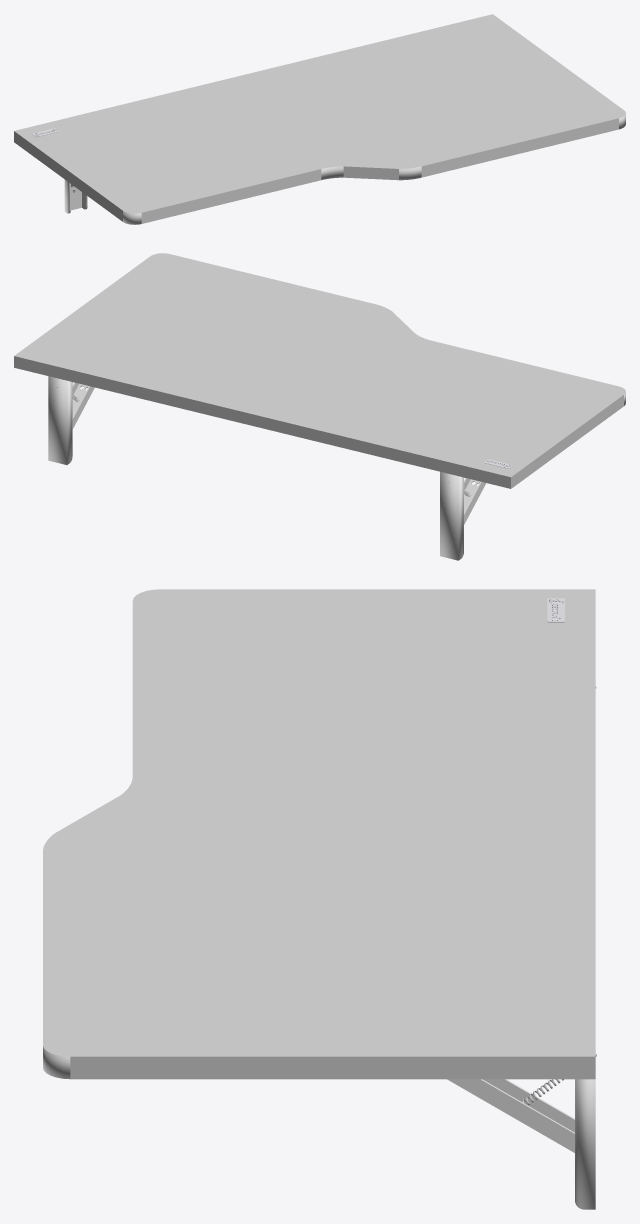
Rendered from steffy.glb.
3 renders of one model, top to bottom at view 1: azimuth 30°, elevation 25°; view 2: azimuth 150°, elevation 25°; view 3: azimuth 270°, elevation 25°, orthographic. The views are drawn at different scales.
Visible parts, largest first — view 1: papan meja, G-__558759; view 2: papan meja, G-__558822, G-__558759, G-__558777, G-__558714; view 3: papan meja, G-__558777, G-__558822.
Boxes of the visible parts, x1,y1,x2,y2 form: papan meja: [14, 14, 625, 224]; G-__558759: [64, 179, 87, 213]; papan meja: [14, 253, 625, 488]; G-__558822: [48, 376, 72, 464]; G-__558759: [440, 471, 463, 560]; G-__558777: [72, 382, 94, 428]; G-__558714: [464, 478, 486, 524]; papan meja: [43, 589, 595, 1079]; G-__558777: [447, 1079, 574, 1152]; G-__558822: [575, 1079, 595, 1209].
Size of the model in its own units: 0.8 by 0.1485 by 0.401.
Materials: 7 (1 with a texture image).
